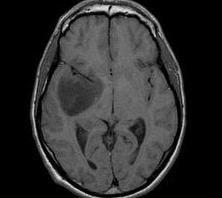Normal_Brain: (1, 1, 222, 198)
